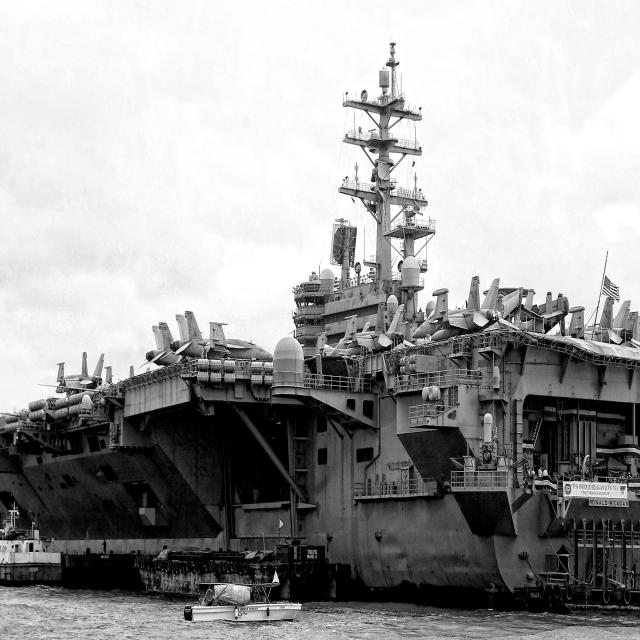Portanaves: (1, 38, 640, 621)
